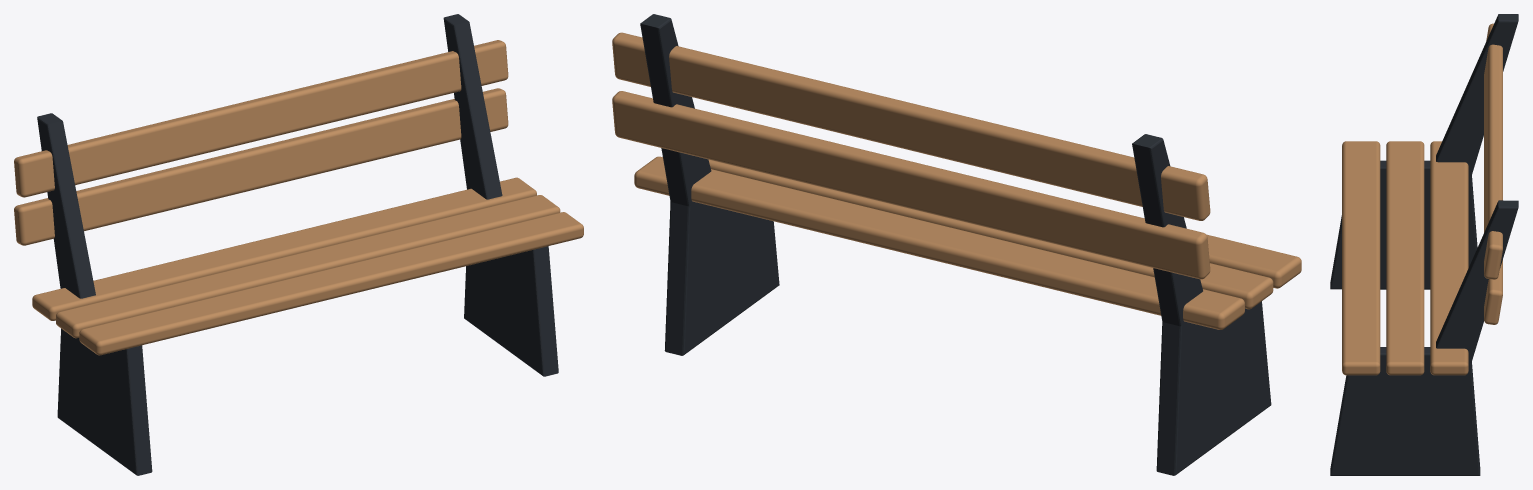
Rendered from bank.glb.
3 views of the same model, side by side, from view 1: azimuth 30°, elevation 25°; view 2: azimuth 150°, elevation 25°; view 3: azimuth 270°, elevation 25° (orthographic). The views are drawn at different scales.
Visible parts, largest first — view 1: bank; view 2: bank; view 3: bank.
Part boxes in pixels (x1,y1,x2,y2): bank: [14, 14, 583, 475]; bank: [612, 14, 1301, 475]; bank: [1330, 14, 1518, 475].
Size of the model in its own units: 1.8 by 1.01 by 0.641.
